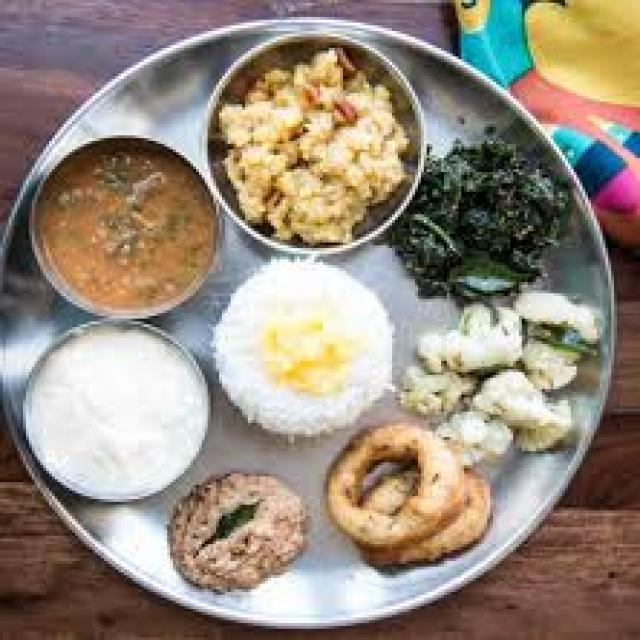curd: (13, 312, 217, 509)
dal: (17, 147, 221, 323)
